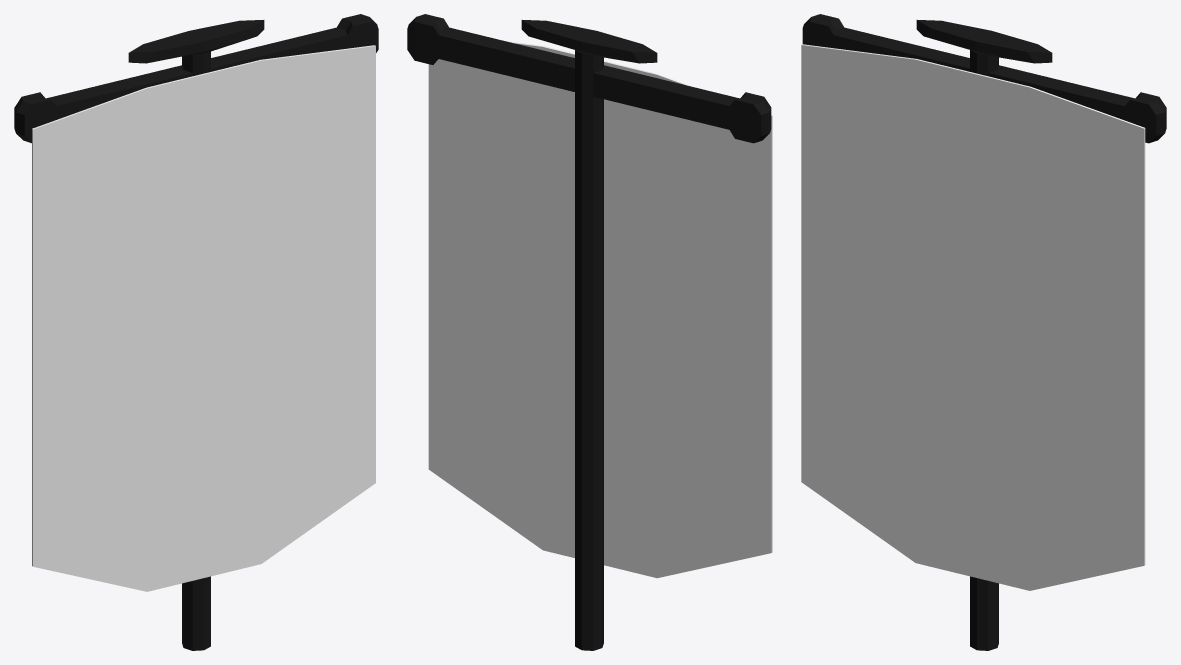
3 views of the same model, side by side, from view 1: azimuth 30°, elevation 25°; view 2: azimuth 150°, elevation 25°; view 3: azimuth 330°, elevation 25° (orthographic).
Parts seen in each view (by area): view 1: BossBanner; view 2: BossBanner; view 3: BossBanner.
Part boxes in pixels (left/top/right/bottom): BossBanner: left=14, top=14, right=378, bottom=650; BossBanner: left=407, top=14, right=772, bottom=650; BossBanner: left=801, top=14, right=1166, bottom=650.
Bounding box in the file's own units: 1.37 × 2.21 × 0.1143.
1 material, 1 textured.
